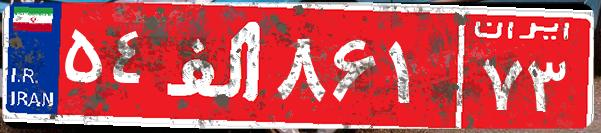1: (385, 28, 445, 110)
3: (525, 38, 570, 115)
4: (110, 28, 158, 105)
5: (57, 26, 110, 107)
6: (330, 28, 385, 110)
7: (475, 38, 525, 113)
8: (273, 28, 330, 110)
الف: (158, 15, 273, 115)
